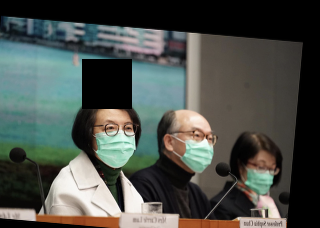with_mask: (91, 114, 138, 166), (173, 123, 217, 171), (240, 156, 279, 194)
